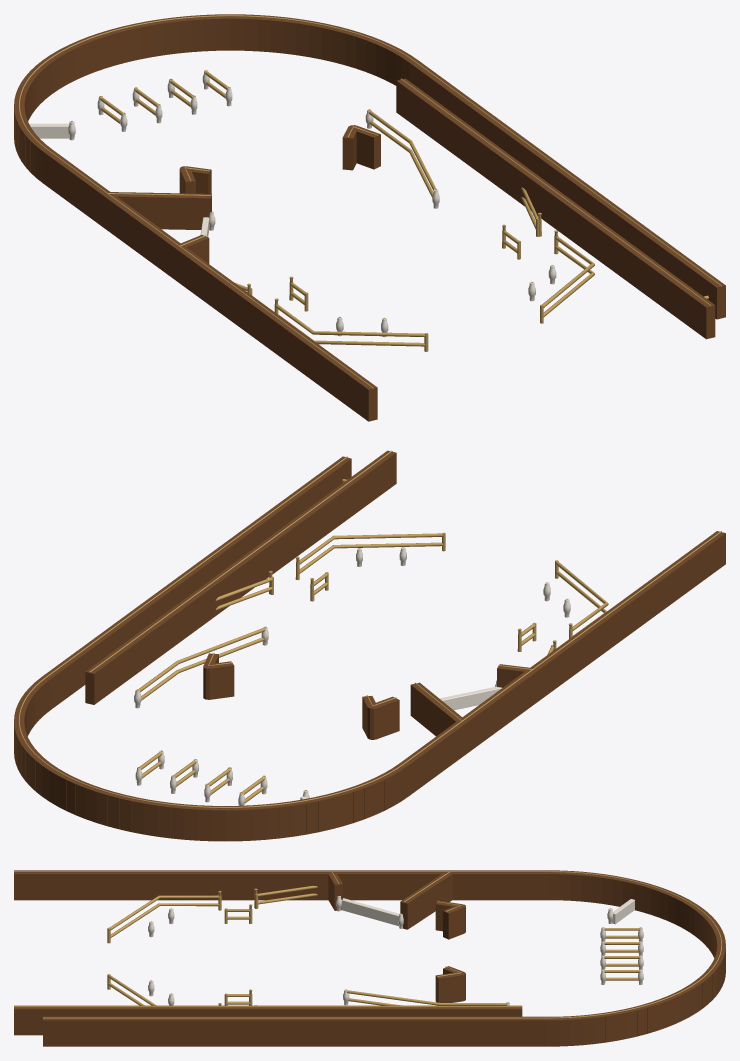
Rendered from Acorn_Guides.glb.
3 views of the same model, one above another, from view 1: azimuth 30°, elevation 25°; view 2: azimuth 150°, elevation 25°; view 3: azimuth 270°, elevation 25° (orthographic). The views are drawn at different scales.
Visible parts, largest first — view 1: Guides_Wood, Guides_Metal, Deco_RailCrests, Posts_Rubber, Guides_Rubber; view 2: Guides_Wood, Guides_Metal, Deco_RailCrests, Posts_Rubber, Guides_Rubber; view 3: Guides_Wood, Guides_Metal, Deco_RailCrests, Posts_Rubber, Guides_Rubber.
Part boxes in pixels (left/top/right/bottom): Guides_Wood: left=14, top=14, right=725, bottom=421; Guides_Metal: left=99, top=70, right=708, bottom=351; Deco_RailCrests: left=18, top=15, right=721, bottom=388; Posts_Rubber: left=68, top=70, right=556, bottom=337; Guides_Rubber: left=29, top=123, right=209, bottom=236; Guides_Wood: left=14, top=450, right=725, bottom=841; Guides_Metal: left=136, top=479, right=608, bottom=803; Deco_RailCrests: left=18, top=450, right=721, bottom=808; Posts_Rubber: left=134, top=547, right=570, bottom=805; Guides_Rubber: left=300, top=686, right=501, bottom=799; Guides_Wood: left=14, top=870, right=725, bottom=1046; Guides_Metal: left=107, top=885, right=641, bottom=1005; Deco_RailCrests: left=14, top=871, right=721, bottom=1018; Posts_Rubber: left=148, top=896, right=643, bottom=1005; Guides_Rubber: left=341, top=898, right=634, bottom=926.
Size of the model in its own units: 0.6888 by 0.058 by 1.38.
